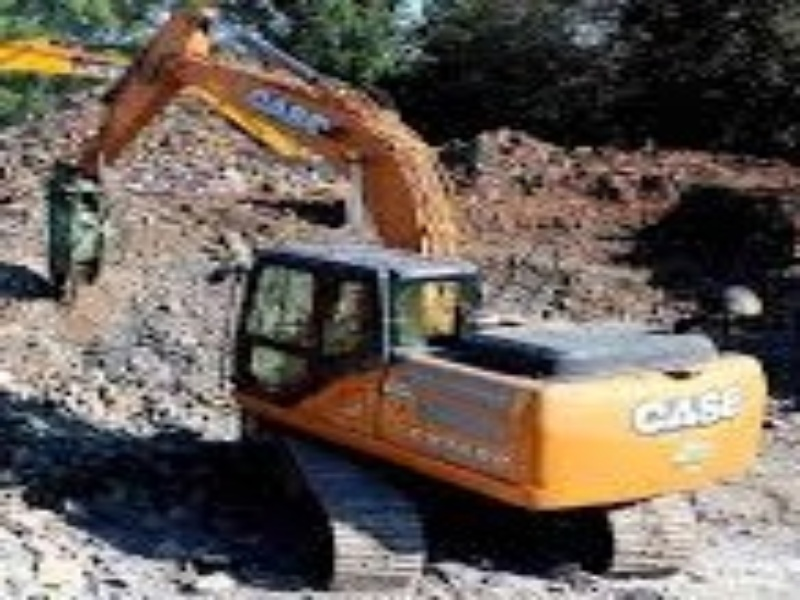wajueji: (168, 190, 785, 597)
